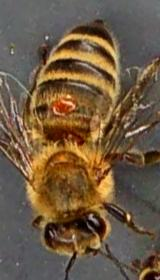varroa_mite: (46, 91, 82, 121)
